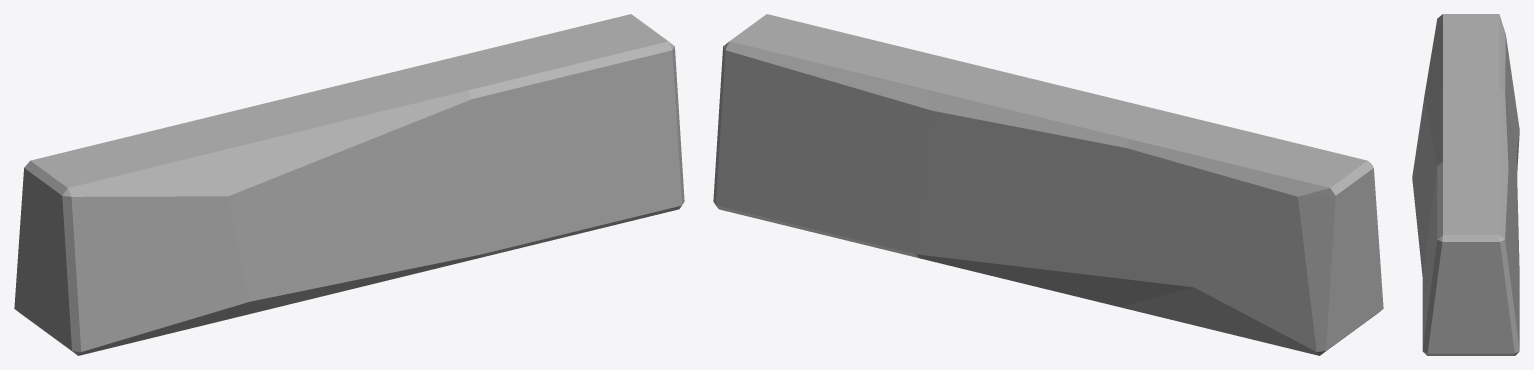
File: LowerWall.gltf
The picture shows the model from 3 angles, left to right: view 1: azimuth 30°, elevation 25°; view 2: azimuth 150°, elevation 25°; view 3: azimuth 270°, elevation 25°; orthographic projection. The views are drawn at different scales.
Visible parts, largest first — view 1: LowerWall; view 2: LowerWall; view 3: LowerWall.
Boxes of the visible parts, box(x1,y1,x2,y2) form: LowerWall: box(14, 14, 684, 355); LowerWall: box(713, 14, 1383, 355); LowerWall: box(1412, 14, 1519, 355).
Size of the model in its own units: 2.4 by 0.6 by 0.4842.
Materials: 1 (1 with a texture image).
